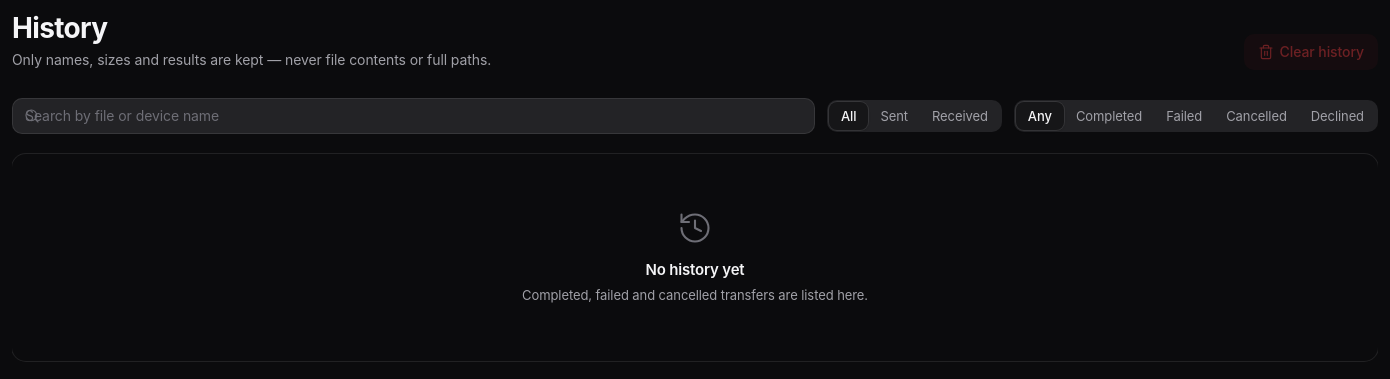
Test: history › shows a no-match state when filtering returns nothing
Click the button "Sent".
click(894, 116)  # box [868,102,920,130]
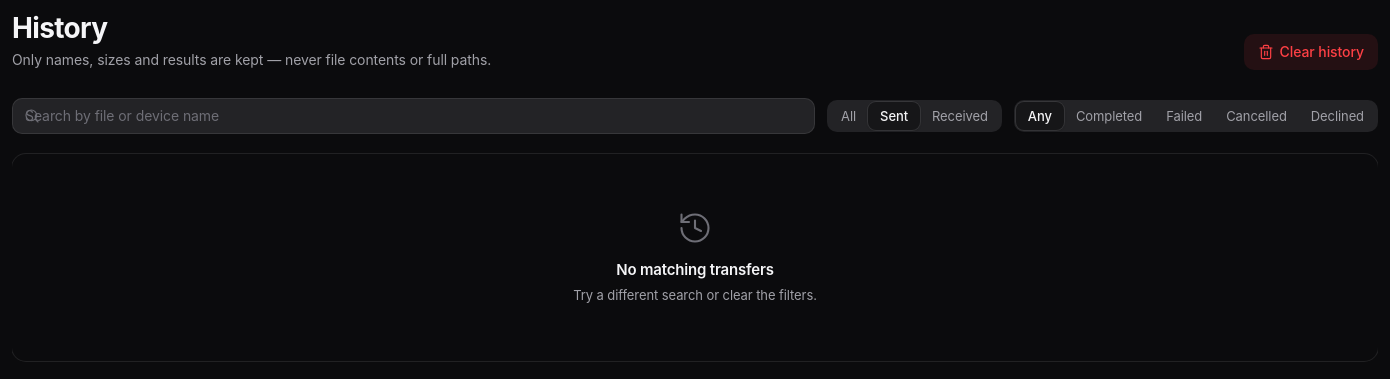
Now the heading "No matching transfers" is shown, box [616,260,774,280]
